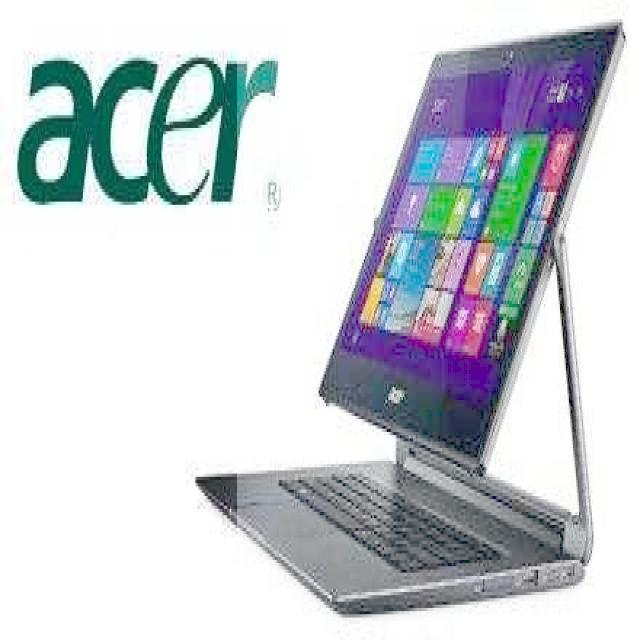-keyboard-: (237, 0, 633, 630)
